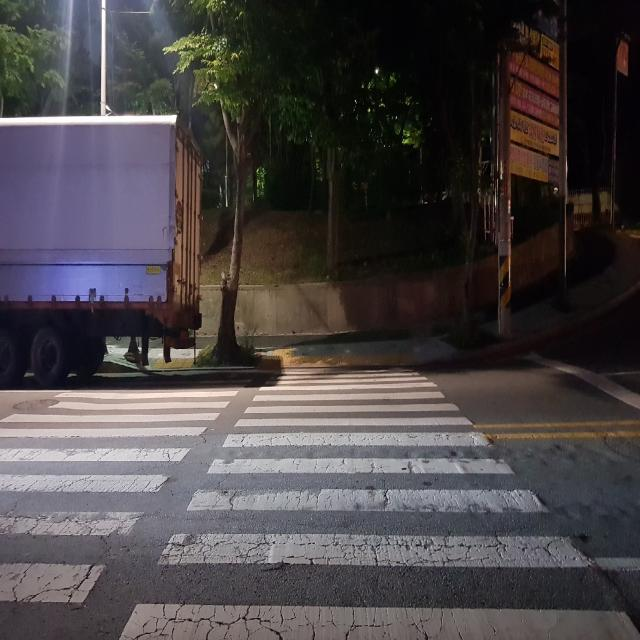횡단보도: (0, 373, 640, 640)
